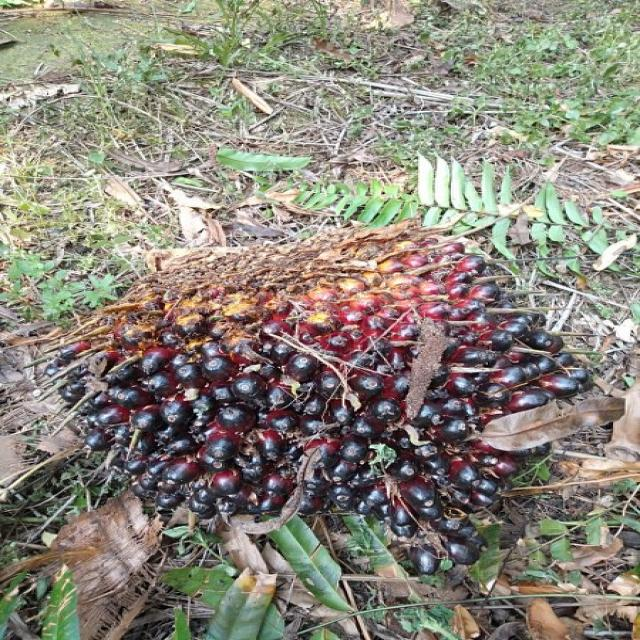fraksi 00: (63, 207, 593, 572)
